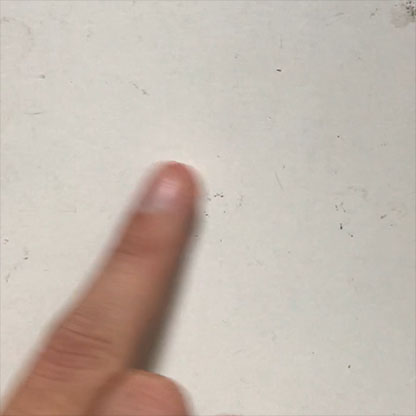fingertip: (130, 156, 211, 238)
